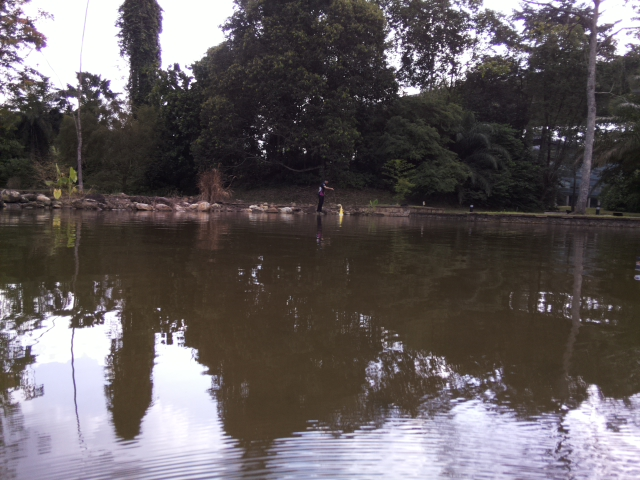checkpoint: (337, 205, 346, 218)
